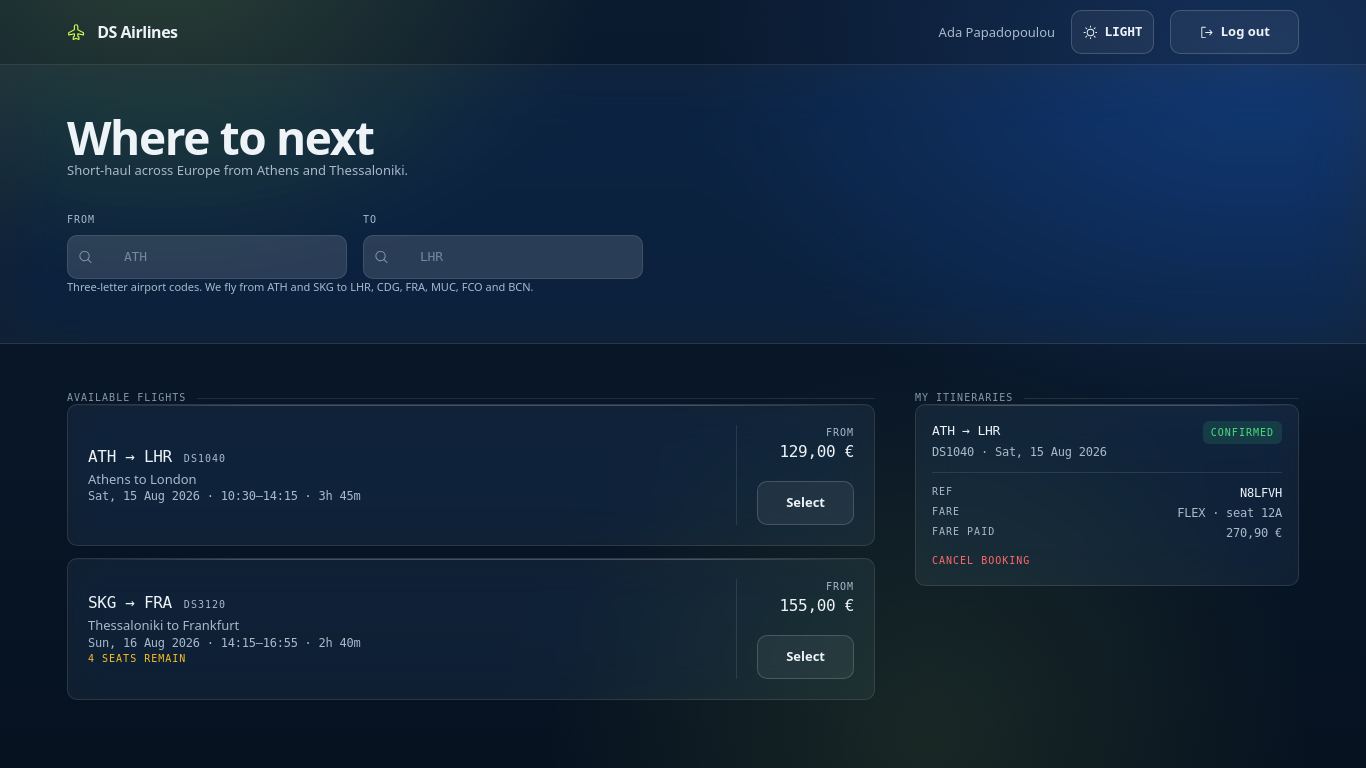
Test: Dashboard › cancellation › states that nothing changed when cancelling fails
Expected: the heading "Where to next" is shown, [67,106,374,168]
Click the button "Cancel booking".
click(981, 560)  # box [932,553,1030,568]
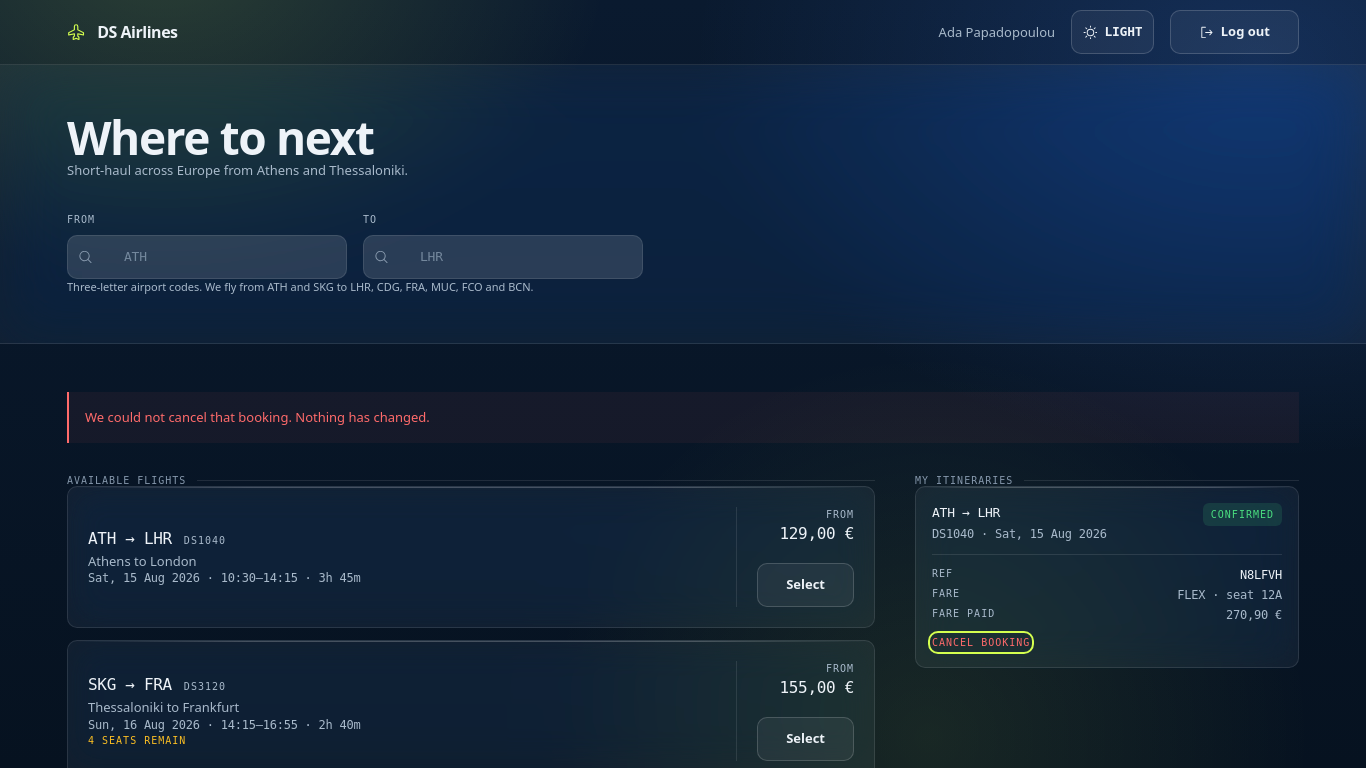
Now the message shows "Nothing has changed", box [85,408,430,426]
